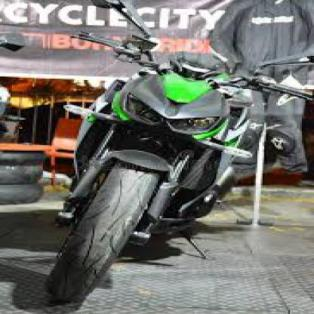Motocicleta: (41, 1, 296, 314)
